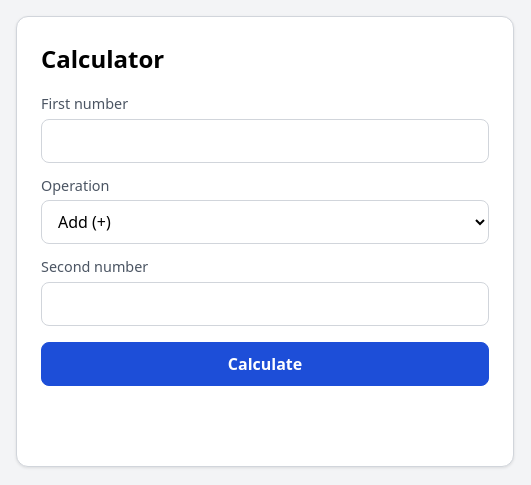
Scenario: disables the button while the request is in flight
Type "1" into the field labelled "First number" at [265, 141], box [41,119,489,163]
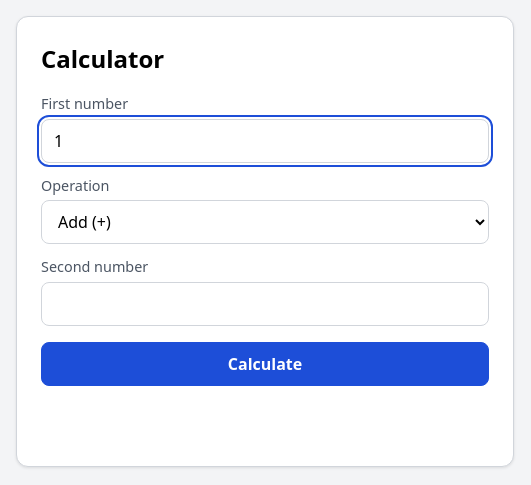
Type "2" into the field labelled "Second number" at [265, 304], box [41,282,489,326]
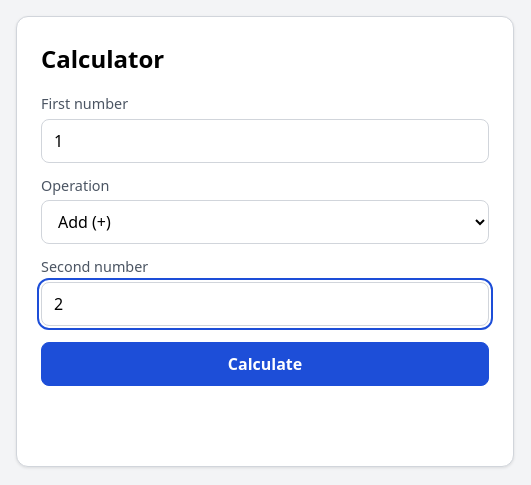
Click the button "Calculate" at [265, 364], box [41,342,489,386]
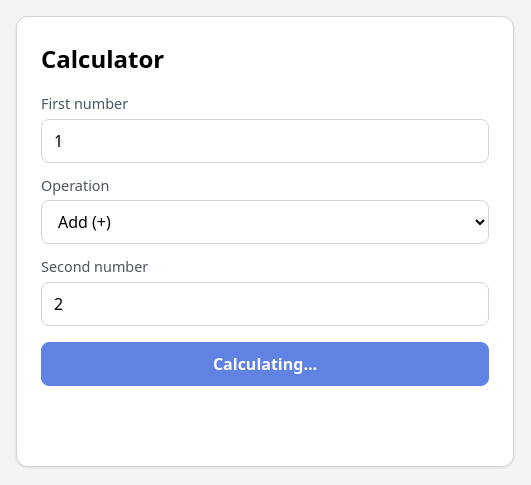
Result: the button "Calculating…" is disabled at [41,342,489,386]
